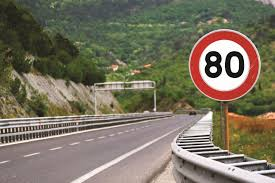Speed_limit_80km: (187, 29, 261, 101)
